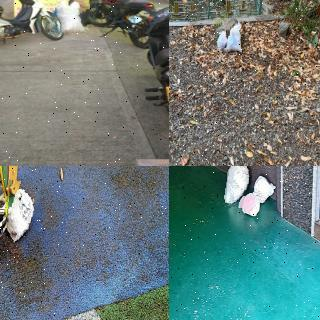Garbage: (2, 180, 39, 245), (52, 0, 89, 35), (224, 166, 252, 208), (255, 174, 279, 202), (241, 191, 263, 219), (227, 22, 242, 52), (213, 25, 230, 51)
